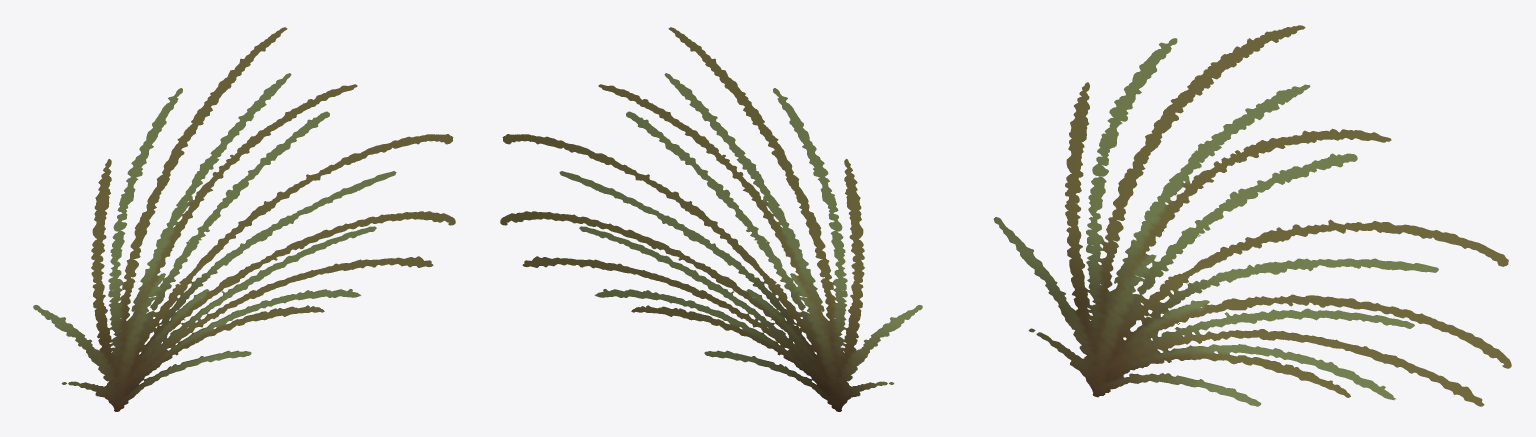
The model's file is painted-weed-041.glb.
3 renders of one model, left to right at view 1: azimuth 30°, elevation 25°; view 2: azimuth 150°, elevation 25°; view 3: azimuth 330°, elevation 25°, orthographic. The views are drawn at different scales.
Bounding box in the file's own units: 10.12 × 7.88 × 0.04.
1 material, 1 textured.
